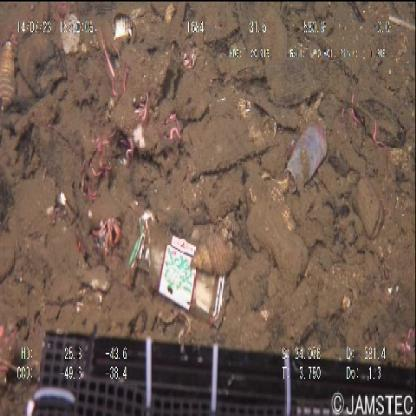Rác: (123, 208, 231, 331), (284, 120, 329, 194)
